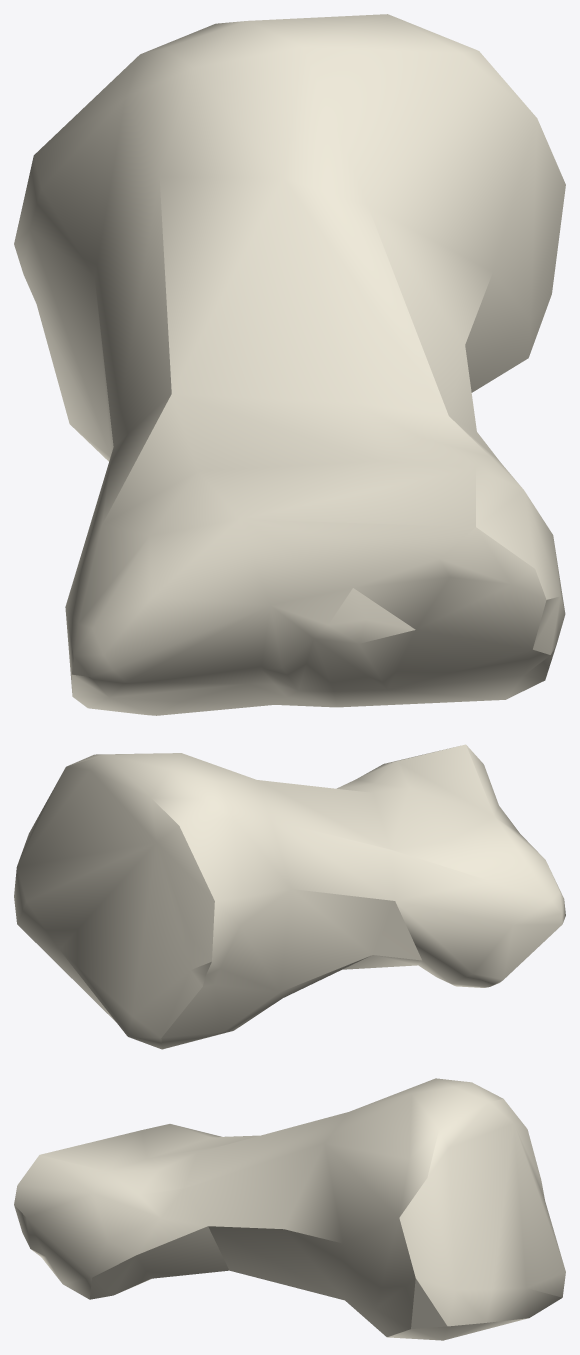
File: fma32642_fj3300.glb
The picture shows the model from 3 angles, top to bottom: view 1: azimuth 30°, elevation 25°; view 2: azimuth 150°, elevation 25°; view 3: azimuth 270°, elevation 25°; orthographic projection. The views are drawn at different scales.
Parts seen in each view (by area): view 1: FMA32642_FJ3300; view 2: FMA32642_FJ3300; view 3: FMA32642_FJ3300.
Boxes of the visible parts, x1,y1,x2,y2 form: FMA32642_FJ3300: [14, 14, 565, 715]; FMA32642_FJ3300: [14, 744, 565, 1049]; FMA32642_FJ3300: [14, 1078, 565, 1340].
Bounding box in the file's own units: 0.0141 × 0.00861 × 0.017.
